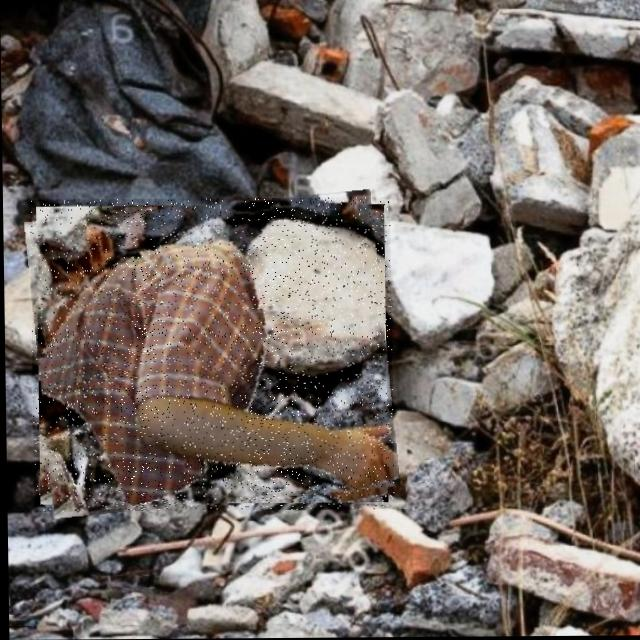Person in Rubble: (29, 198, 393, 512)
